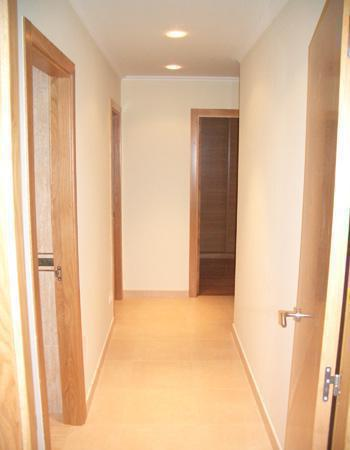Puerta: (295, 21, 331, 441)
